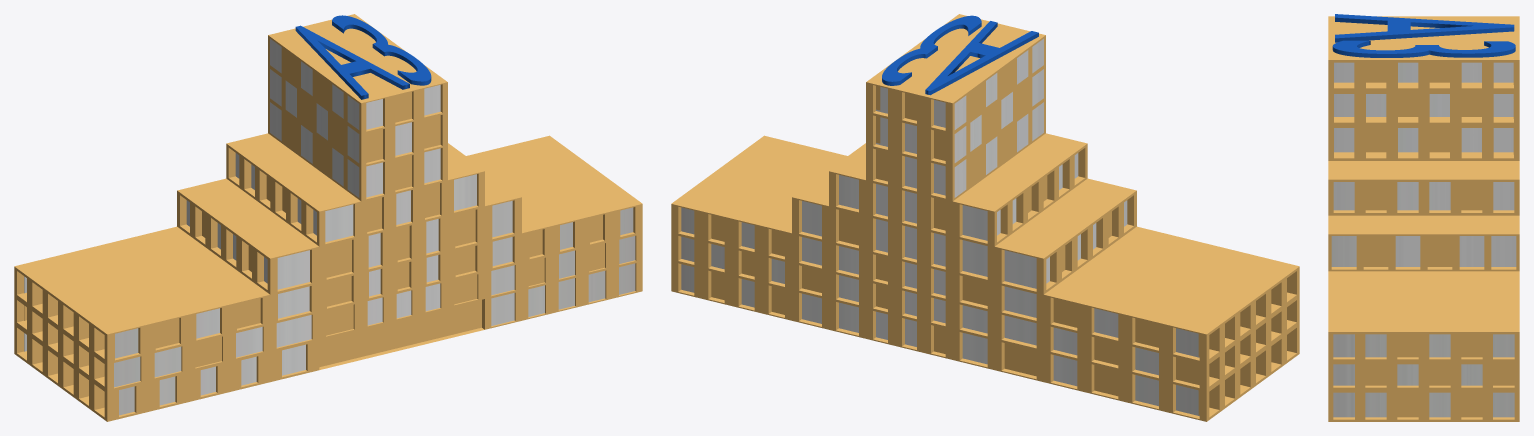
Rendered from BuildingA3.obj.
The picture shows the model from 3 angles, left to right: view 1: azimuth 30°, elevation 25°; view 2: azimuth 150°, elevation 25°; view 3: azimuth 270°, elevation 25°; orthographic projection. The views are drawn at different scales.
Parts seen in each view (by area): view 1: Plane.076, Text.041; view 2: Plane.076, Text.041; view 3: Plane.076, Text.041.
Boxes of the visible parts, x1,y1,x2,y2 form: Plane.076: (14,14,642,421); Text.041: (295,15,431,99); Plane.076: (671,14,1299,421); Text.041: (882,15,1038,95); Plane.076: (1328,16,1519,421); Text.041: (1332,14,1515,57).
Bounding box in the file's own units: 17.1 × 7.96 × 5.15.
